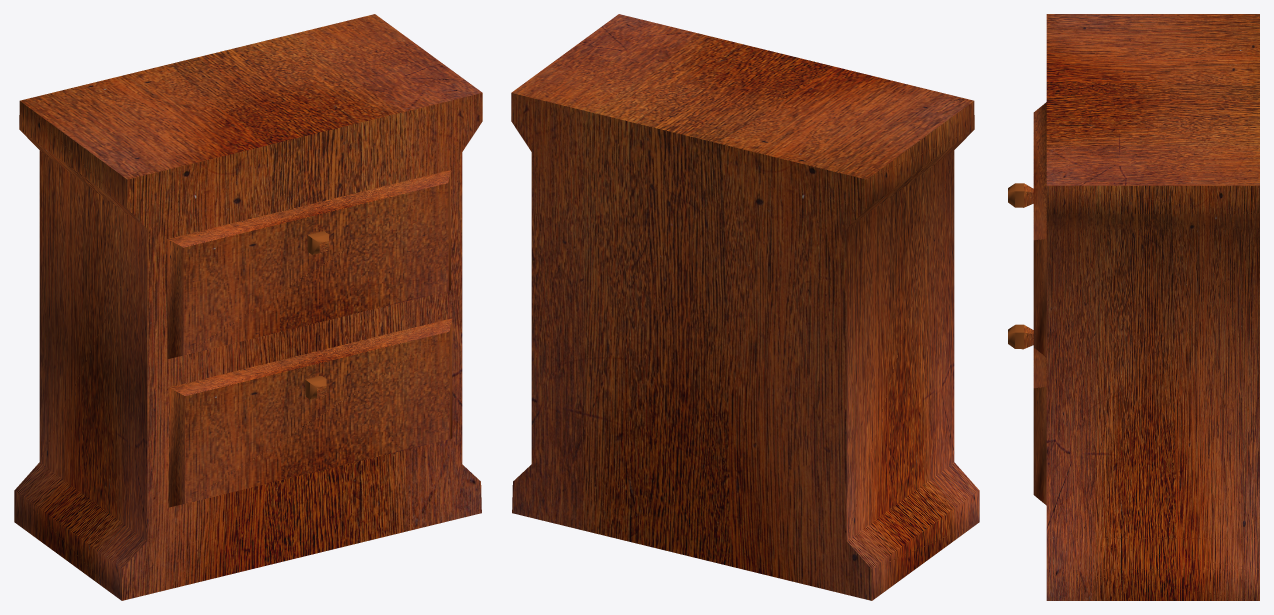
Rendered from nightstand.obj.
3 views of the same model, side by side, from view 1: azimuth 30°, elevation 25°; view 2: azimuth 150°, elevation 25°; view 3: azimuth 270°, elevation 25° (orthographic).
Visible parts, largest first — view 1: br_nightstand; view 2: br_nightstand; view 3: br_nightstand.
Boxes of the visible parts, x1,y1,x2,y2 form: br_nightstand: (14, 14, 482, 600); br_nightstand: (511, 14, 979, 600); br_nightstand: (1008, 14, 1259, 600).
Size of the model in its own units: 19.73 by 21.95 by 12.05.
1 material, 1 textured.
